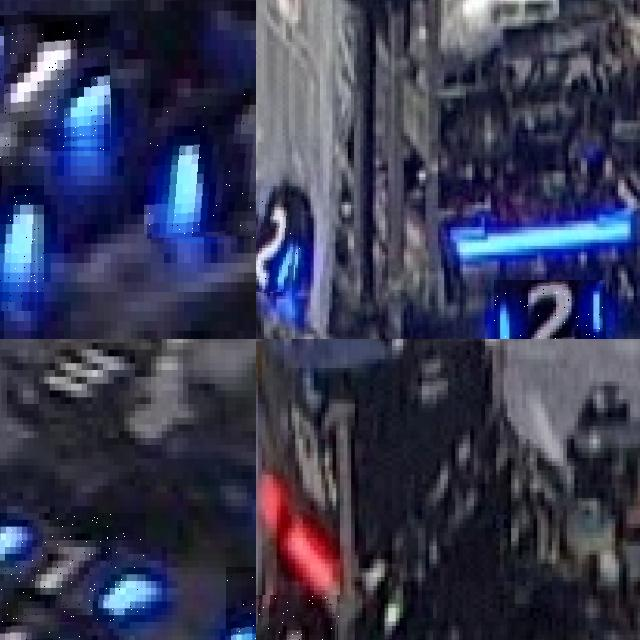B1: (147, 93, 256, 238), (0, 513, 145, 622), (0, 15, 110, 151), (0, 136, 43, 311)
B2: (494, 280, 606, 339), (256, 186, 301, 292)
R1: (256, 595, 341, 640)
